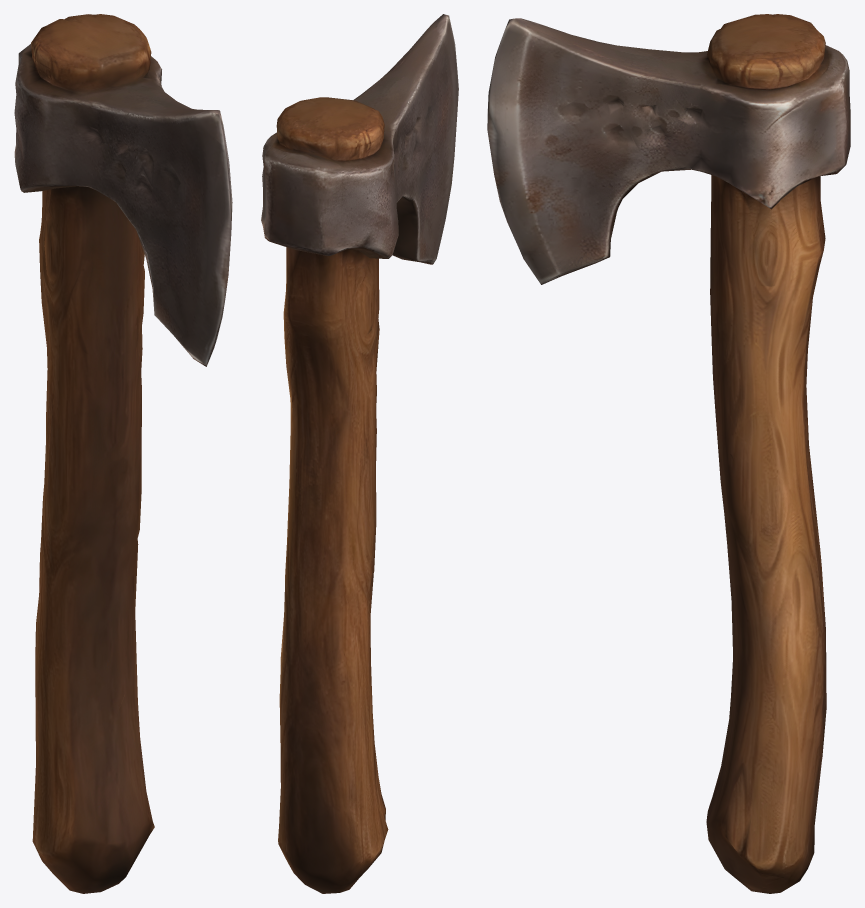
File: machado-mao.glb
The picture shows the model from 3 angles, left to right: view 1: azimuth 30°, elevation 25°; view 2: azimuth 150°, elevation 25°; view 3: azimuth 270°, elevation 25°; orthographic projection. The views are drawn at different scales.
Visible parts, largest first — view 1: tripo_node_b0455000-80ac-4f8a-a02b-9e873d8b7190; view 2: tripo_node_b0455000-80ac-4f8a-a02b-9e873d8b7190; view 3: tripo_node_b0455000-80ac-4f8a-a02b-9e873d8b7190.
Part boxes in pixels (x1,y1,x2,y2): tripo_node_b0455000-80ac-4f8a-a02b-9e873d8b7190: (14,14,232,893); tripo_node_b0455000-80ac-4f8a-a02b-9e873d8b7190: (261,14,458,893); tripo_node_b0455000-80ac-4f8a-a02b-9e873d8b7190: (487,14,850,893).
Bounding box in the file's own units: 0.0752 × 0.45 × 0.17.
1 material, 1 textured.
